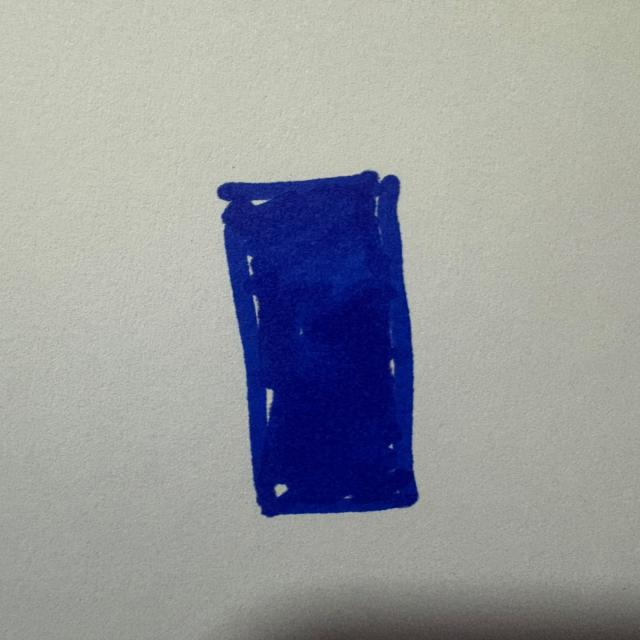Rectangle: (218, 171, 419, 517)
